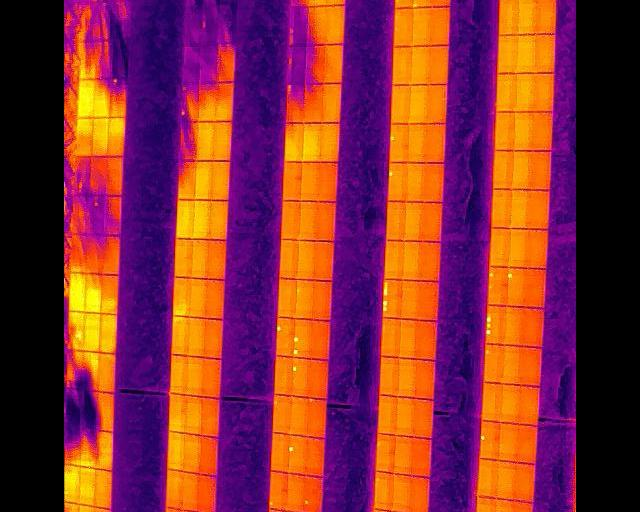Cell: (388, 161, 407, 201), (480, 420, 500, 458), (390, 123, 409, 162), (484, 343, 503, 382), (289, 434, 307, 473), (308, 398, 326, 436), (274, 394, 292, 432), (269, 471, 287, 509), (508, 267, 526, 305), (305, 475, 323, 512), (296, 279, 313, 318), (277, 316, 294, 355), (291, 357, 308, 395)
Cell-Multi: (489, 266, 508, 304), (181, 82, 199, 122), (487, 305, 505, 343), (294, 317, 310, 356)
No-Anomaly: (418, 241, 440, 281), (523, 268, 545, 307), (534, 32, 555, 72), (421, 201, 442, 241), (308, 320, 330, 358), (526, 229, 547, 268), (523, 307, 544, 346), (528, 189, 549, 228), (417, 280, 438, 319), (481, 382, 502, 421), (491, 188, 512, 227), (207, 239, 227, 279), (424, 162, 444, 202), (391, 84, 411, 124), (491, 227, 511, 267), (308, 358, 328, 397), (302, 122, 322, 161), (530, 151, 550, 190), (532, 111, 552, 150), (519, 385, 539, 424), (495, 111, 515, 150), (428, 44, 448, 83), (414, 398, 434, 437), (415, 358, 435, 397), (416, 320, 436, 359), (493, 150, 513, 189), (478, 458, 498, 497), (517, 424, 538, 461), (100, 274, 119, 314), (521, 347, 541, 385), (322, 82, 341, 122), (374, 471, 394, 509), (213, 120, 232, 160), (533, 72, 553, 110), (209, 199, 228, 239), (205, 318, 224, 358), (198, 472, 217, 512), (95, 468, 114, 508), (427, 83, 446, 123), (385, 239, 404, 279), (516, 462, 535, 502), (380, 356, 399, 395), (326, 5, 345, 44), (378, 395, 397, 434), (377, 433, 396, 472), (319, 161, 338, 200), (317, 201, 336, 240), (314, 241, 333, 280), (284, 122, 303, 161), (211, 160, 230, 199), (202, 357, 221, 396), (497, 460, 516, 499), (412, 437, 431, 476), (412, 6, 431, 45), (431, 6, 450, 45), (426, 123, 445, 162), (407, 123, 426, 162), (393, 45, 412, 84), (394, 7, 413, 46), (498, 34, 517, 73), (499, 422, 518, 461), (381, 317, 400, 356), (387, 201, 406, 240), (516, 72, 535, 111), (503, 345, 522, 384), (504, 306, 523, 345), (497, 72, 516, 111), (409, 475, 429, 512), (501, 384, 520, 422), (177, 199, 195, 239), (216, 80, 234, 120), (202, 396, 220, 436), (206, 278, 224, 318), (200, 435, 218, 475), (78, 465, 95, 507), (99, 312, 117, 351), (173, 276, 191, 315), (175, 238, 193, 277), (325, 44, 343, 83), (300, 200, 318, 239), (321, 122, 339, 161), (313, 280, 331, 319), (301, 161, 319, 200), (278, 278, 296, 317), (280, 238, 298, 277), (282, 200, 300, 239), (283, 161, 301, 200), (271, 432, 289, 471), (410, 84, 428, 123), (406, 162, 424, 201), (393, 473, 411, 512), (511, 189, 529, 228), (514, 111, 532, 150), (98, 352, 115, 393), (307, 437, 325, 475), (95, 431, 113, 469), (512, 150, 530, 188), (108, 116, 125, 156), (167, 469, 184, 509), (171, 353, 188, 393), (182, 470, 199, 510), (185, 394, 202, 434), (190, 277, 207, 317), (399, 357, 416, 397), (510, 228, 527, 268), (397, 396, 414, 436), (499, 0, 519, 34), (106, 155, 123, 194), (298, 239, 315, 278), (291, 396, 308, 435), (287, 472, 304, 511), (275, 355, 292, 394), (195, 160, 212, 199), (197, 121, 214, 160), (186, 356, 203, 395), (92, 117, 109, 156), (78, 78, 95, 117), (76, 117, 93, 156), (517, 33, 534, 72), (412, 45, 429, 84), (404, 201, 421, 240), (400, 319, 417, 358), (403, 240, 420, 279), (395, 435, 412, 474), (536, 0, 556, 33), (169, 431, 185, 472), (184, 433, 200, 474), (518, 0, 537, 34), (170, 392, 186, 432), (192, 238, 208, 278), (189, 316, 205, 356), (86, 272, 102, 312), (402, 279, 418, 319), (173, 315, 189, 354), (194, 199, 210, 238), (84, 312, 100, 351), (70, 272, 86, 311), (64, 464, 79, 504), (476, 496, 496, 512), (495, 498, 515, 512), (513, 500, 532, 512), (78, 503, 95, 512)
Shadowing: (197, 4, 219, 46), (217, 3, 238, 46), (98, 390, 118, 433), (197, 43, 218, 83), (81, 390, 100, 431), (287, 44, 306, 84), (287, 83, 306, 123), (80, 428, 99, 468), (111, 38, 130, 77), (217, 43, 236, 82), (77, 2, 96, 41), (110, 76, 128, 117), (104, 195, 122, 235), (290, 5, 308, 45), (179, 121, 197, 161), (198, 82, 216, 122), (102, 235, 120, 274), (307, 45, 325, 84), (305, 83, 323, 122), (178, 160, 196, 199), (72, 195, 90, 234), (308, 5, 326, 43), (95, 1, 112, 41), (94, 77, 111, 117), (75, 155, 92, 195), (68, 310, 85, 350), (64, 427, 81, 467), (86, 234, 103, 273), (94, 40, 111, 79), (182, 45, 199, 84), (83, 351, 99, 392), (79, 41, 96, 79), (89, 195, 105, 235), (91, 155, 107, 195), (71, 234, 87, 273), (64, 501, 79, 512)
Unclassified: (384, 277, 403, 317)
